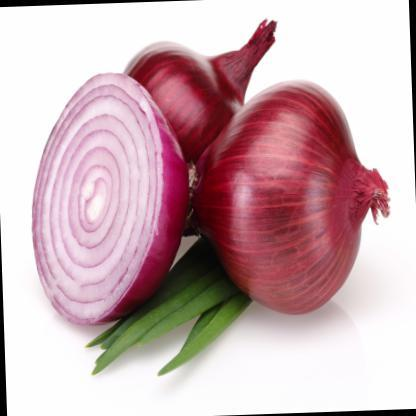onion: (189, 69, 400, 328)
